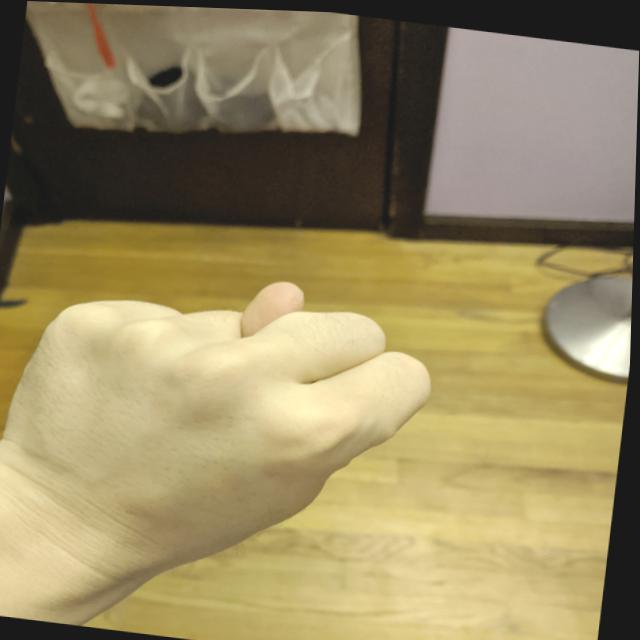N: (0, 239, 451, 608)
